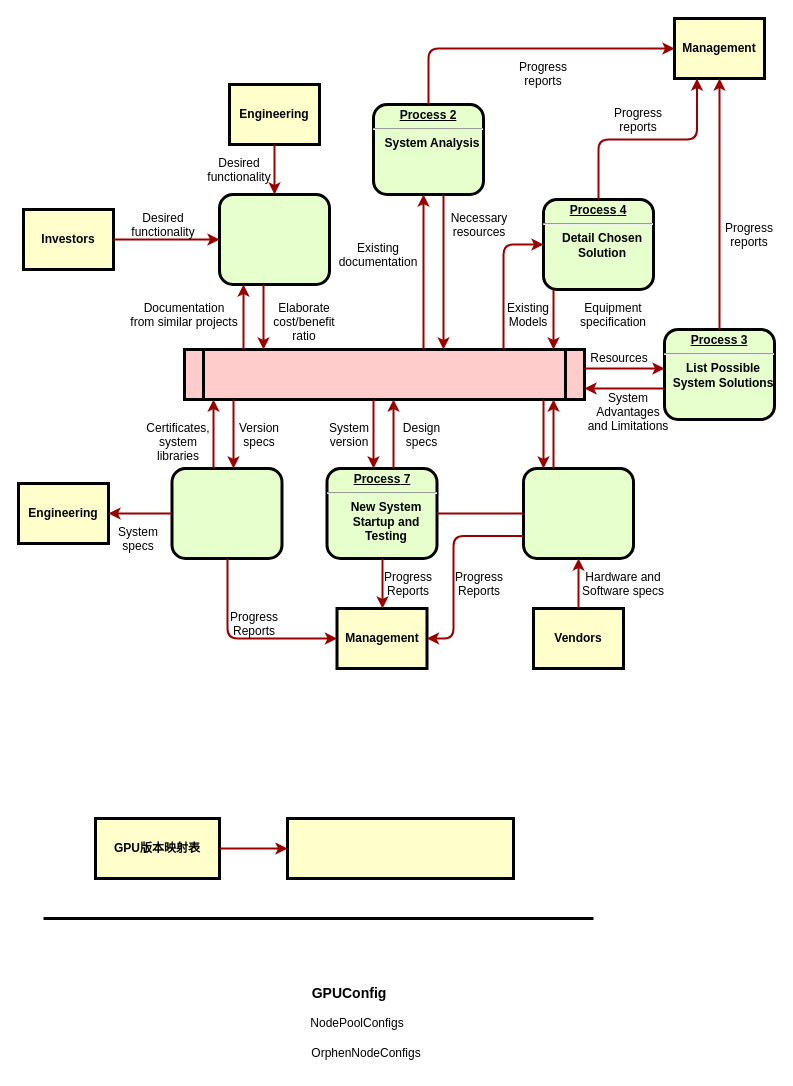
Some shapes in this 793 by 1086 pixel diagram are drawn without their labels. The shapes that lost their labels are listed below. From the top down, each one's centre as x and y in pixels, then its label:
(x=274, y=239): Process 1 System Study Preparation
(x=384, y=374): ON-DEMAND SYSTEM DEVELOPMENT
(x=226, y=513): Process 6 New System Construction
(x=578, y=513): Process 5 New System Design
(x=400, y=848): Cloud Gateway 或 Dashboard
